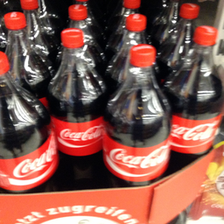soda: (45, 27, 108, 188), (103, 45, 172, 187), (1, 52, 60, 190), (168, 26, 222, 167)
